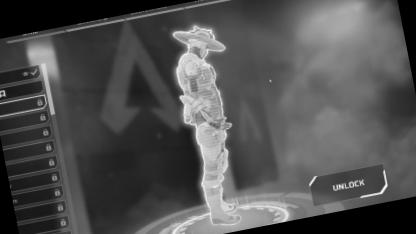Target: (162, 15, 252, 196)
